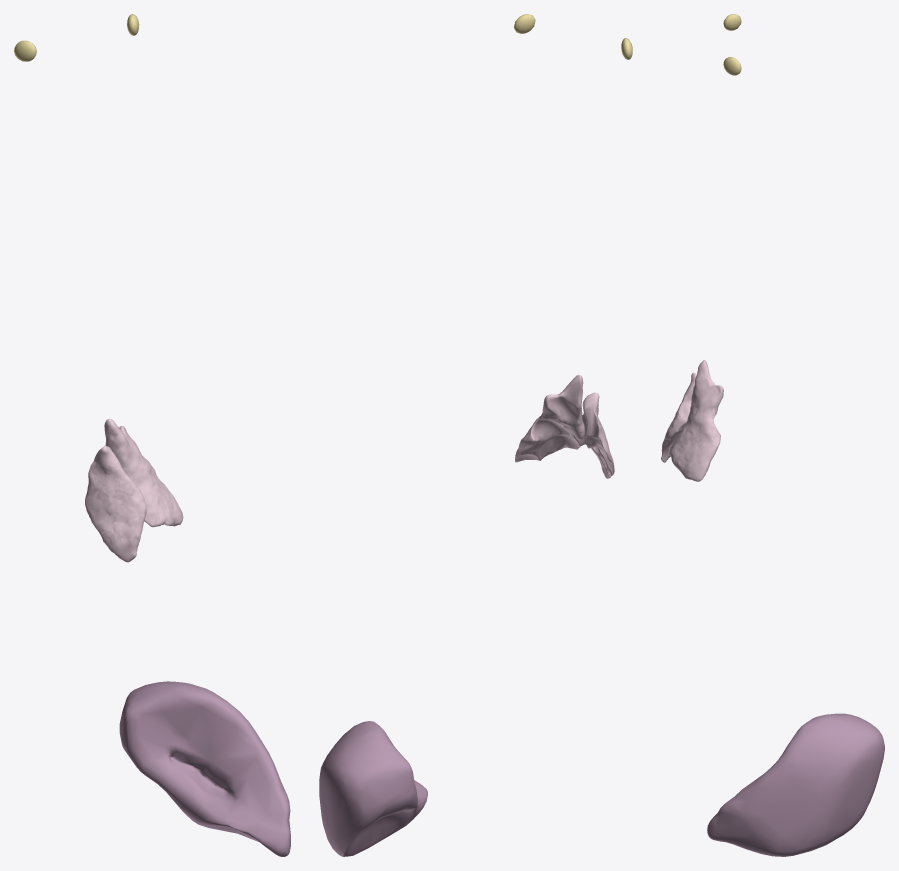
The model's file is spleen.glb.
The picture shows the model from 3 angles, left to right: view 1: azimuth 30°, elevation 25°; view 2: azimuth 150°, elevation 25°; view 3: azimuth 270°, elevation 25°; orthographic projection. The views are drawn at different scales.
Visible parts, largest first — view 1: Spleen.001, Right lobe of thymus.001, Left lobe of thymus.001; view 2: Spleen.001, Left lobe of thymus.001, Right lobe of thymus.001; view 3: Spleen.001, Left lobe of thymus.001, Right lobe of thymus.001.
Boxes of the visible parts, <box> form: Spleen.001: <box>119,681,290,856</box>; Right lobe of thymus.001: <box>85,446,146,562</box>; Left lobe of thymus.001: <box>104,418,183,527</box>; Spleen.001: <box>319,721,427,856</box>; Left lobe of thymus.001: <box>515,375,584,462</box>; Right lobe of thymus.001: <box>573,392,614,478</box>; Spleen.001: <box>707,713,884,856</box>; Left lobe of thymus.001: <box>669,360,723,481</box>; Right lobe of thymus.001: <box>661,372,696,462</box>.
Size of the model in its own units: 0.1454 by 0.4339 by 0.1197.
